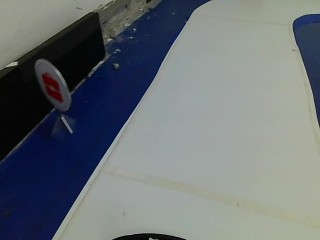company: (32, 56, 72, 115)
